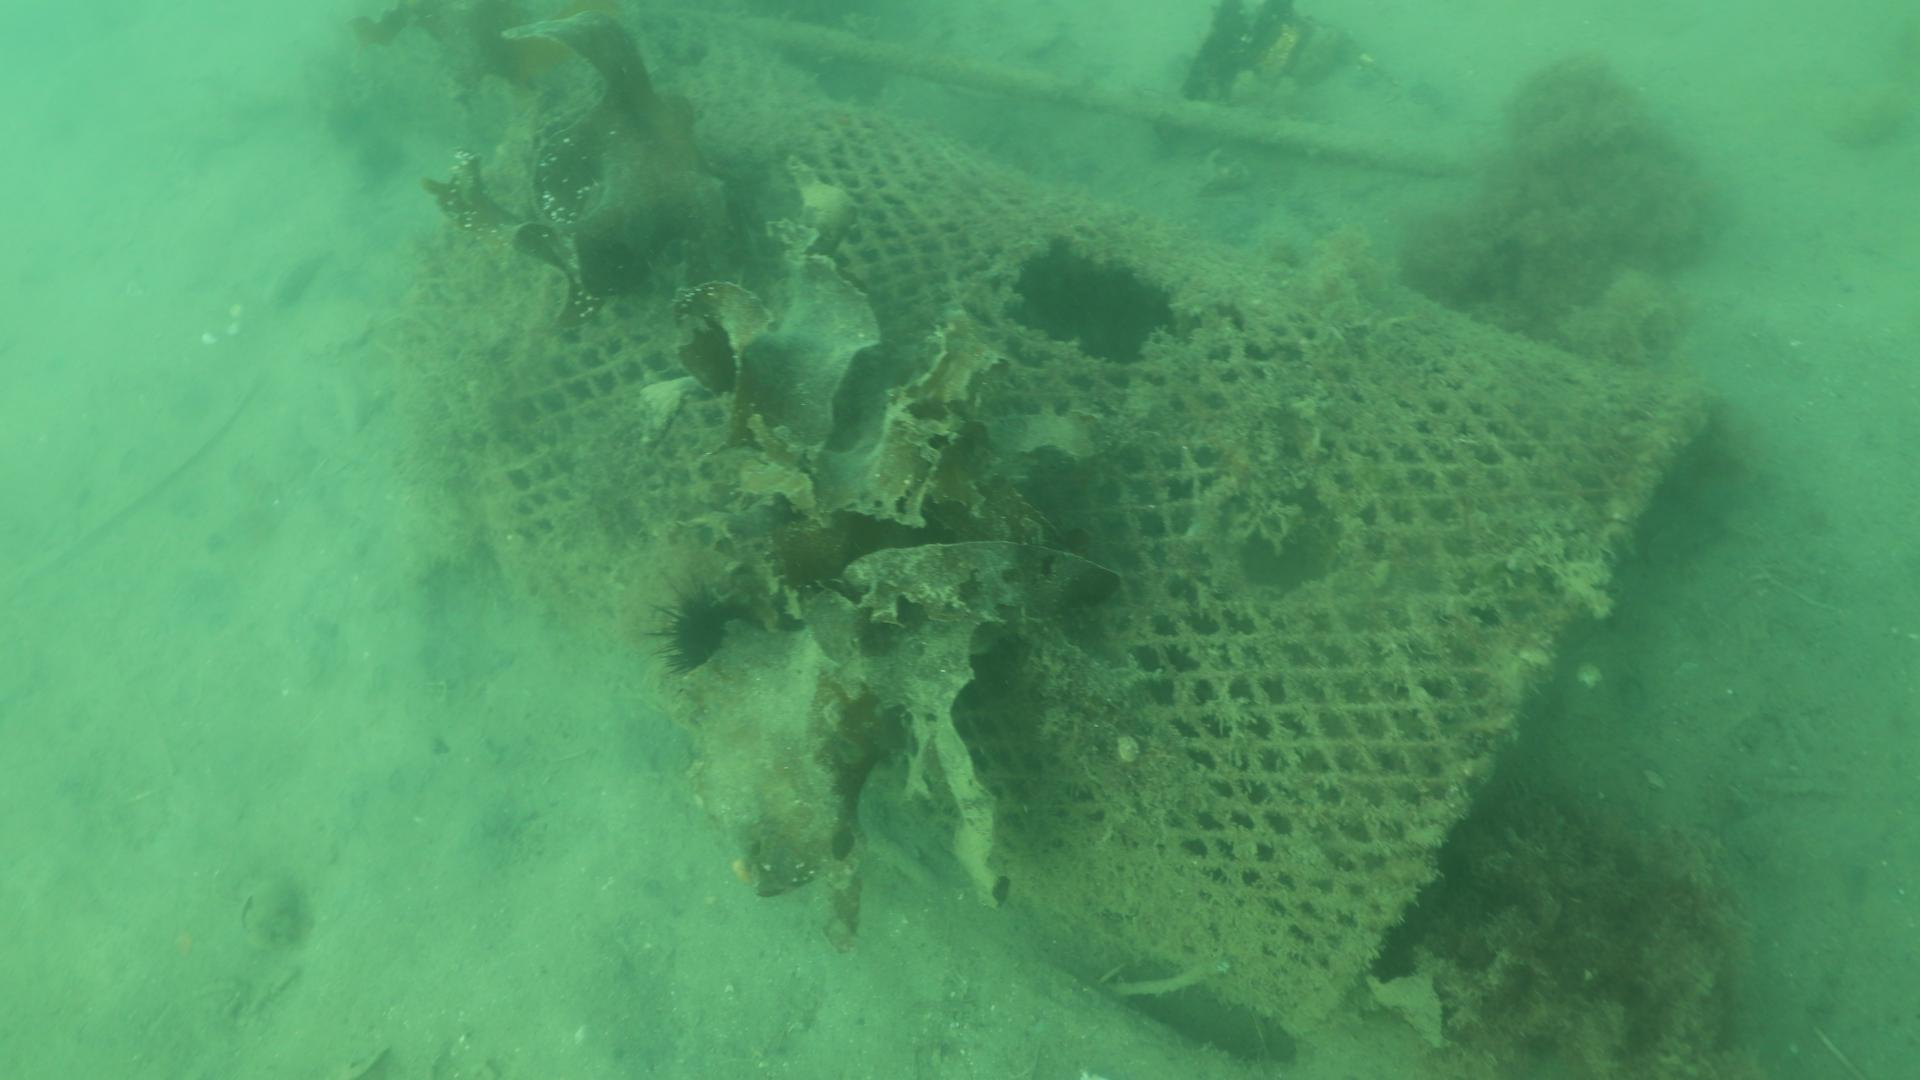spring fish trap: (477, 7, 1706, 1036)
